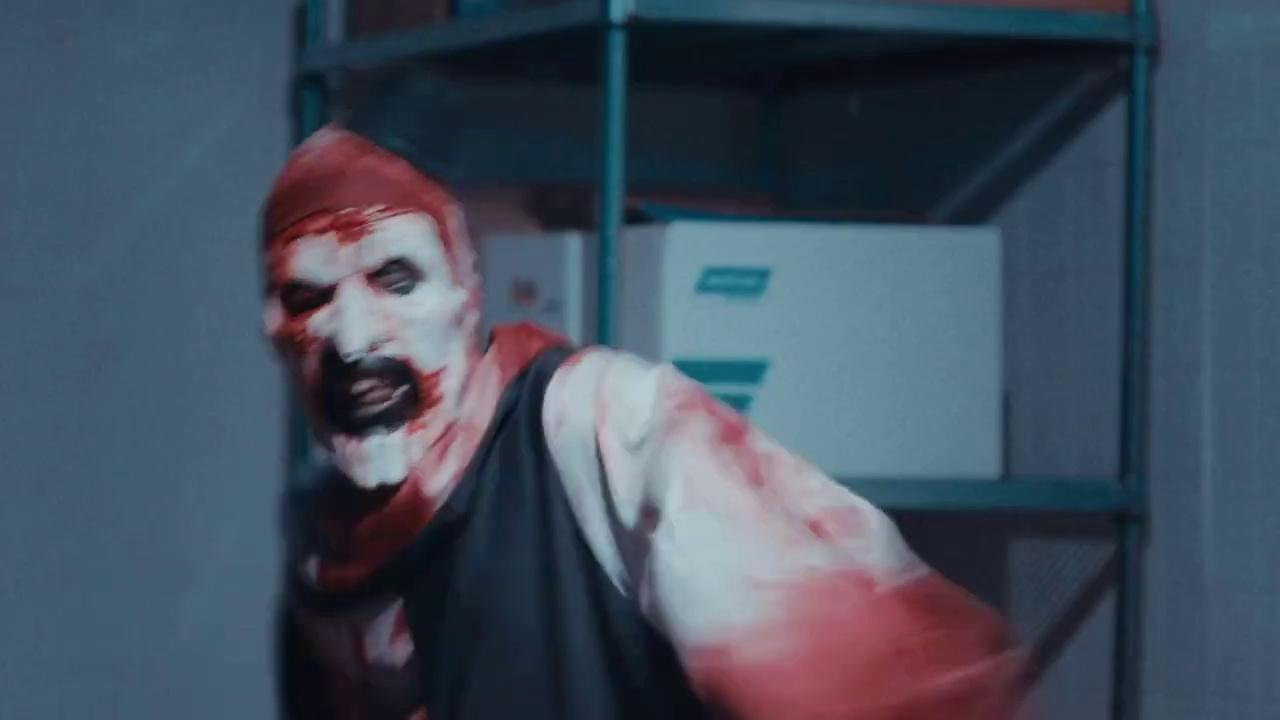Fire: (260, 129, 1042, 720)
